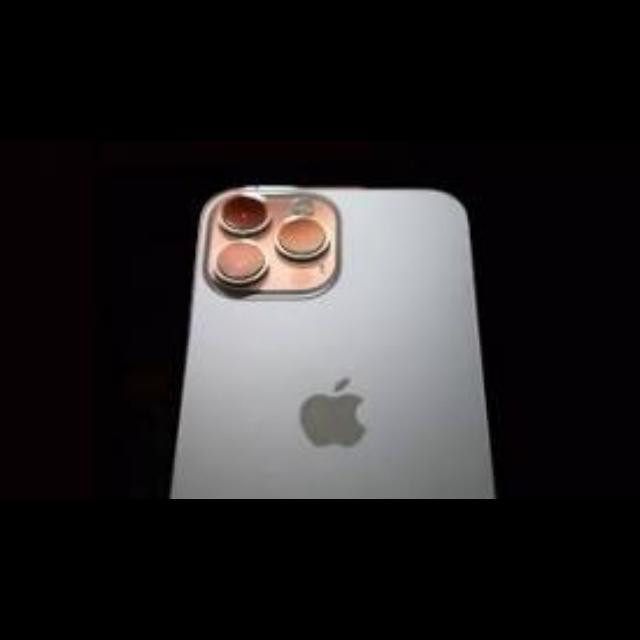Phone: (172, 184, 494, 498)
